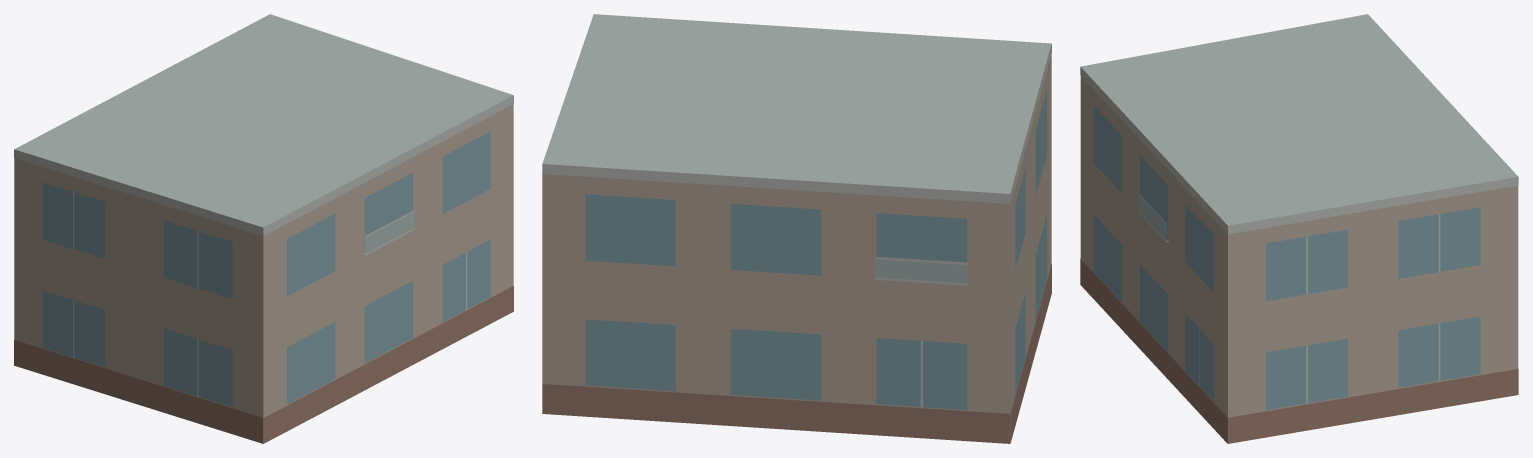
File: survey-upis-32706106.glb
3 renders of one model, left to right at view 1: azimuth 30°, elevation 25°; view 2: azimuth 150°, elevation 25°; view 3: azimuth 270°, elevation 25°, orthographic. The views are drawn at different scales.
Visible parts, largest first — view 1: survey-upis-32706106.tmp; view 2: survey-upis-32706106.tmp; view 3: survey-upis-32706106.tmp.
Boxes of the visible parts, x1,y1,x2,y2 form: survey-upis-32706106.tmp: (14,14,513,443); survey-upis-32706106.tmp: (542,14,1051,443); survey-upis-32706106.tmp: (1080,14,1518,443).
Bounding box in the file's own units: 12.71 × 6.1 × 11.11.
